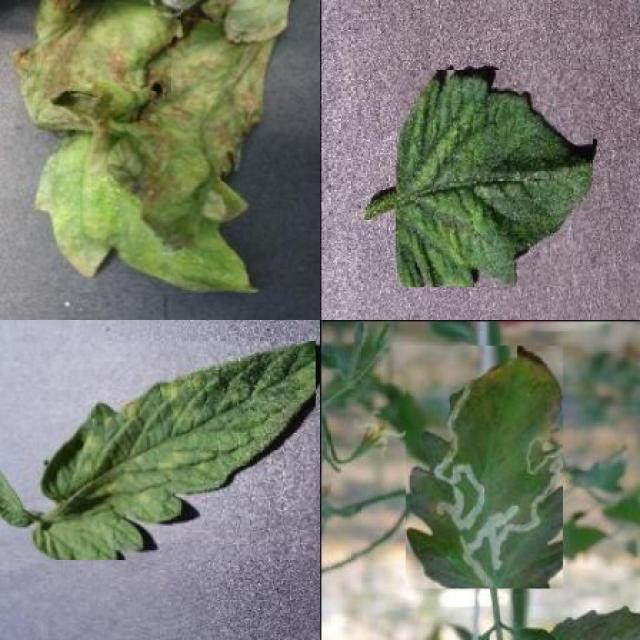Late Blight: (8, 0, 288, 293)
Leaf Miner: (406, 346, 564, 588)
Leaf Mold: (33, 340, 316, 560)
Mosaic Virus: (396, 70, 594, 287)
